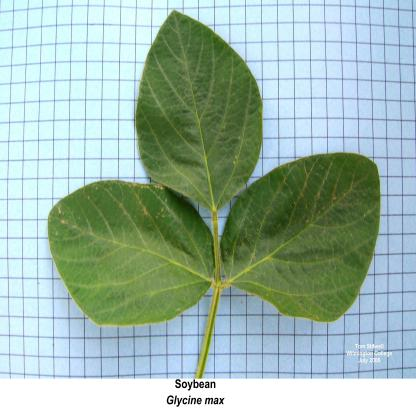soybean leaf: (222, 150, 380, 326), (134, 6, 266, 216), (44, 177, 215, 331)
